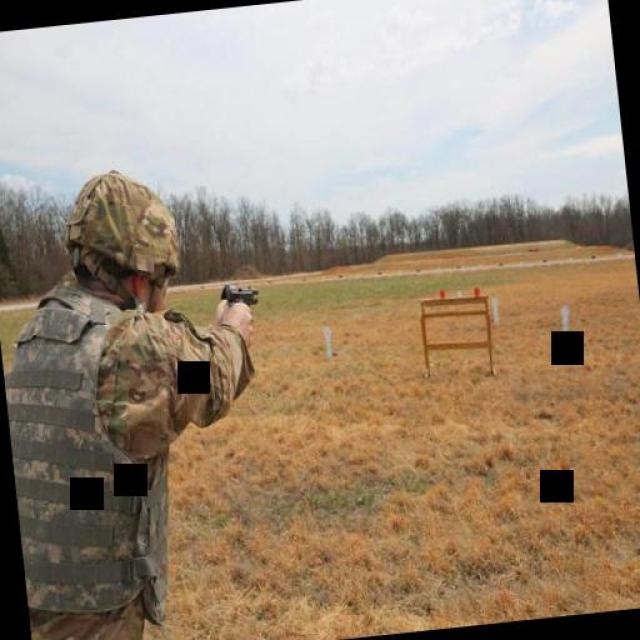gun: (214, 274, 260, 320)
